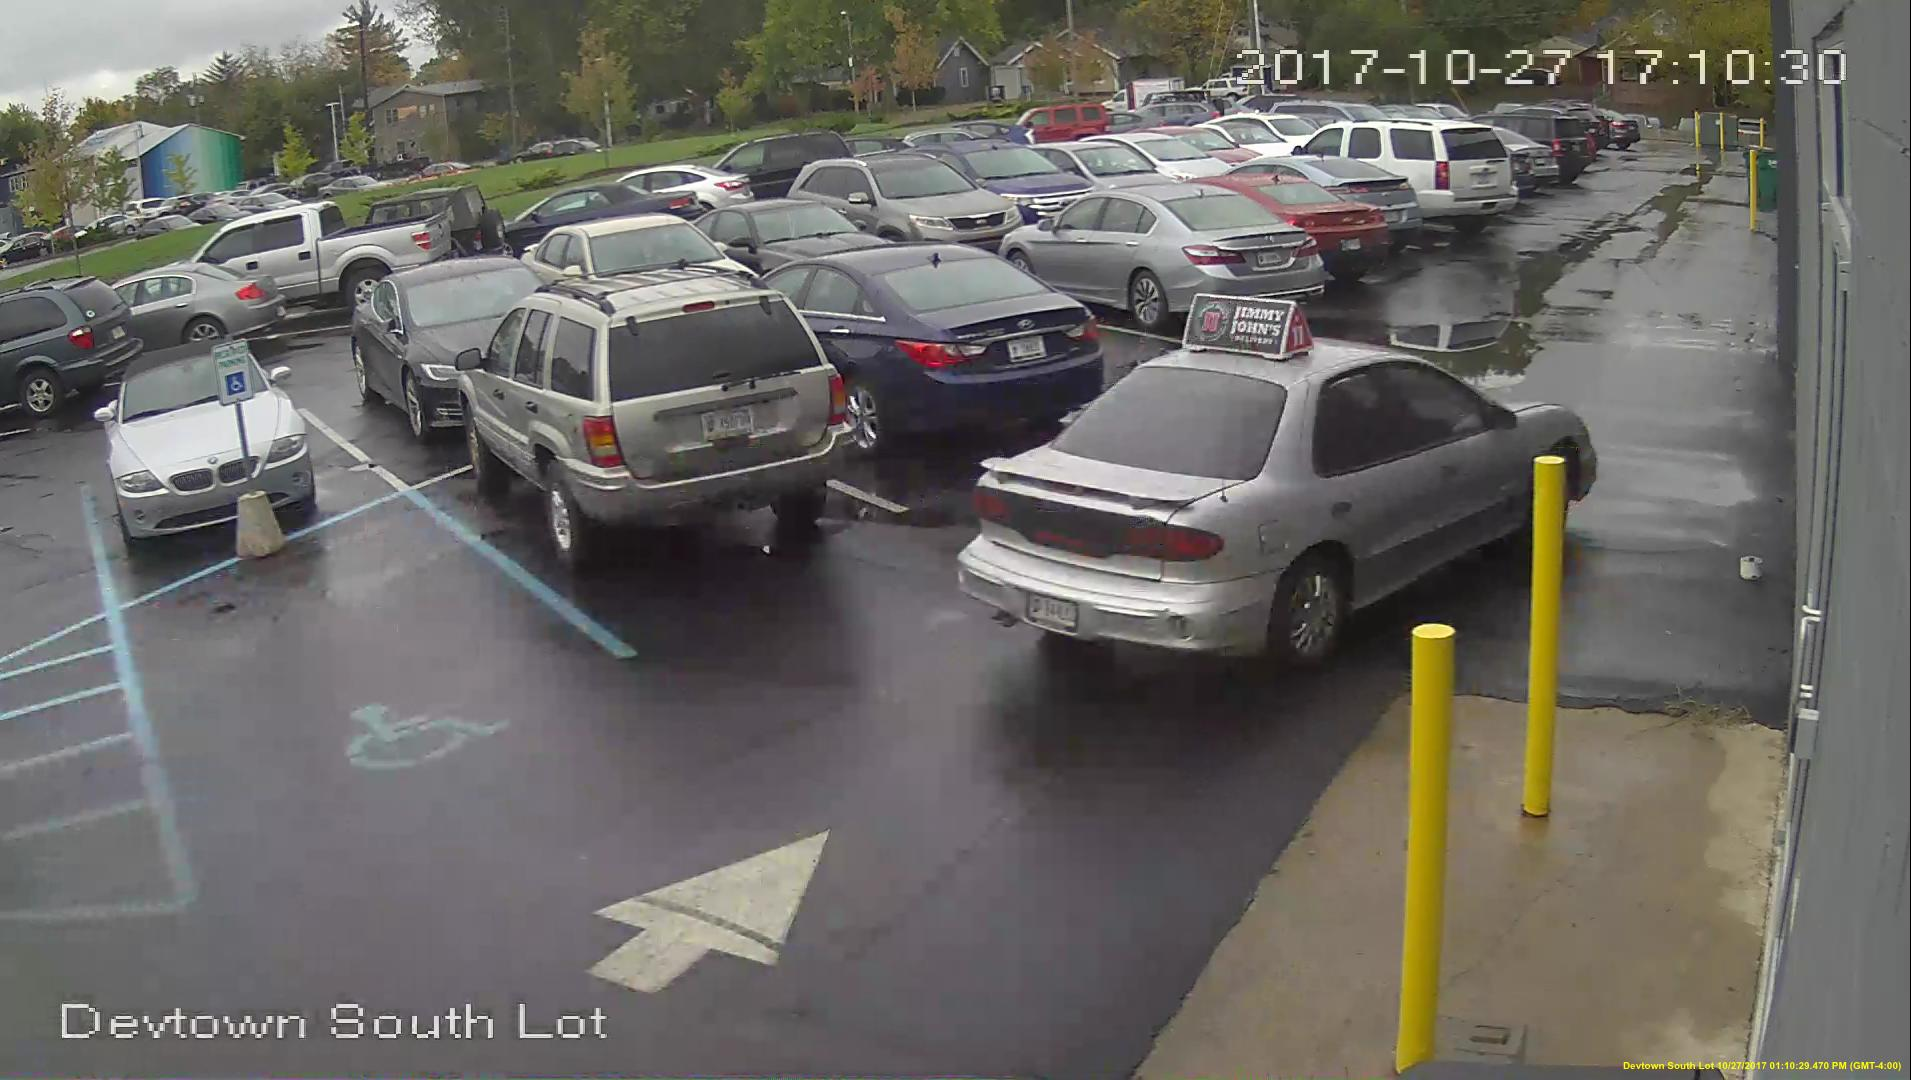jimmy_johns: (1180, 290, 1312, 363)
